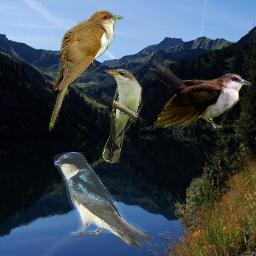Cuckoo: (154, 36, 252, 132), (49, 9, 123, 133), (102, 69, 143, 163)
Swallow: (54, 152, 154, 249)
